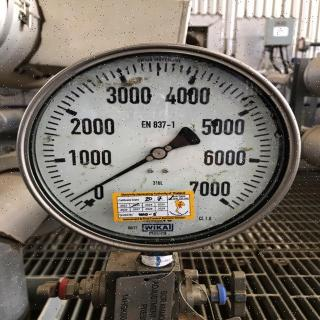gauge: (2, 44, 306, 276), (74, 185, 102, 213), (208, 185, 238, 211), (151, 146, 167, 160), (68, 192, 80, 205)
